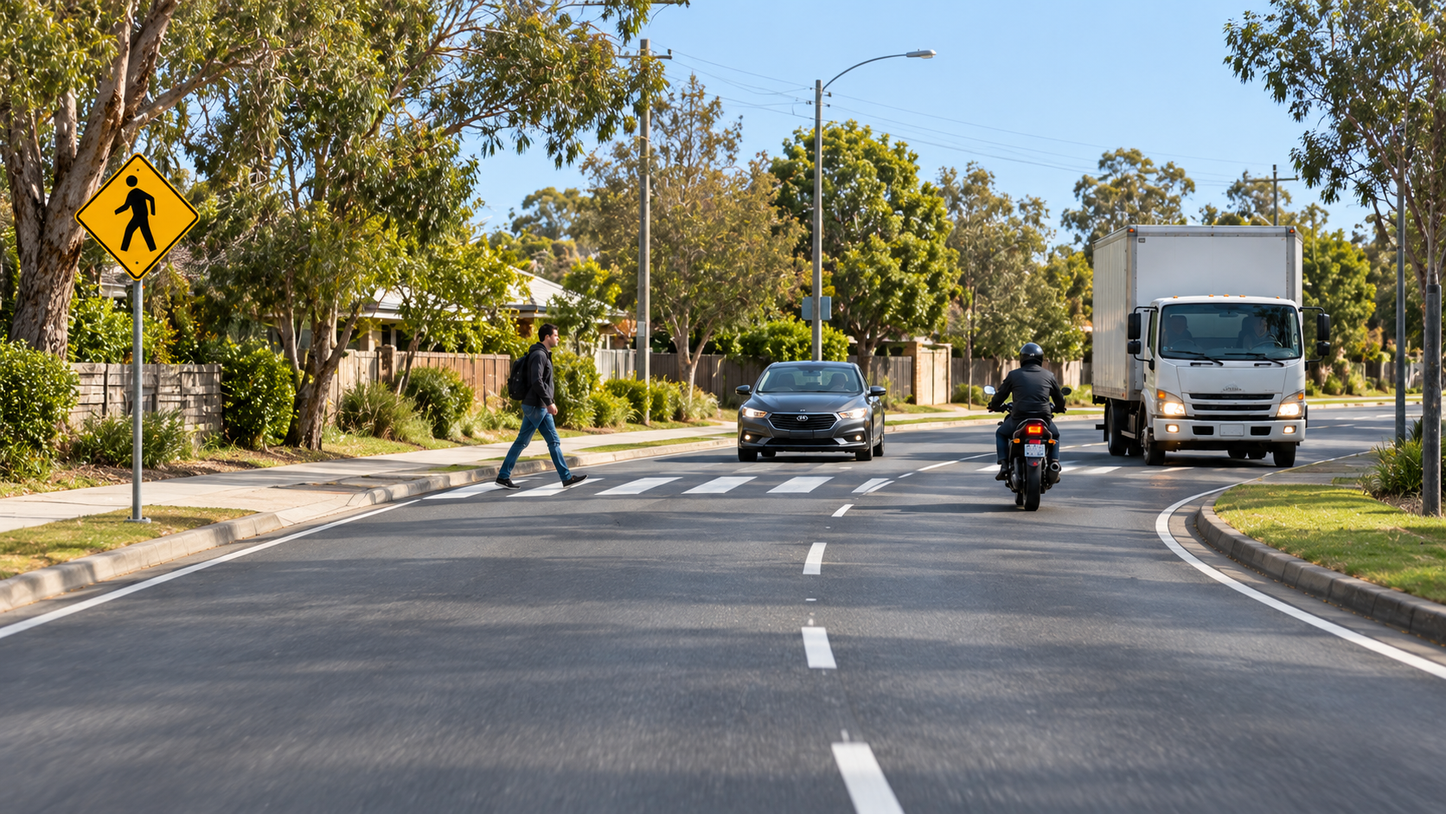car: (731, 359, 891, 470)
crossing_warning_sign: (73, 150, 202, 287)
motorcycle: (978, 405, 1087, 516)
person: (491, 324, 592, 490), (981, 341, 1084, 456)
truck: (1083, 219, 1334, 473)
zebra_crossing: (318, 452, 1130, 507)
